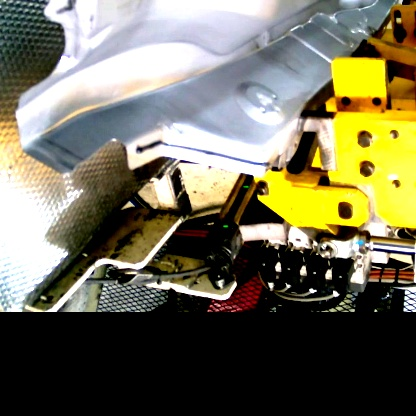line: (134, 138, 271, 168)
